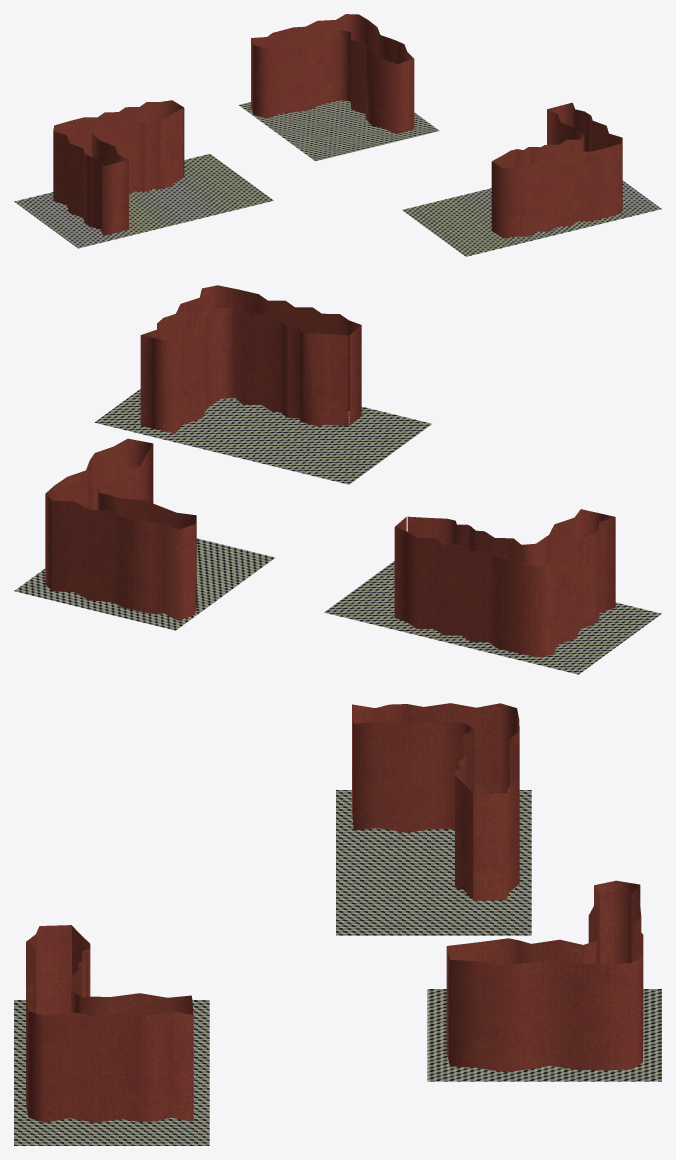
Rendered from SM_TerminalPalace_00.fbx.
3 renders of one model, top to bottom at view 1: azimuth 30°, elevation 25°; view 2: azimuth 150°, elevation 25°; view 3: azimuth 270°, elevation 25°, orthographic. The views are drawn at different scales.
Visible parts, largest first — view 1: SM_TerminalPalace_00; view 2: SM_TerminalPalace_00; view 3: SM_TerminalPalace_00.
Part boxes in pixels (<box>): SM_TerminalPalace_00: <box>14,14,661,256</box>; SM_TerminalPalace_00: <box>14,285,661,674</box>; SM_TerminalPalace_00: <box>14,703,661,1145</box>.
Size of the model in its own units: 10053 by 1425 by 7734.
